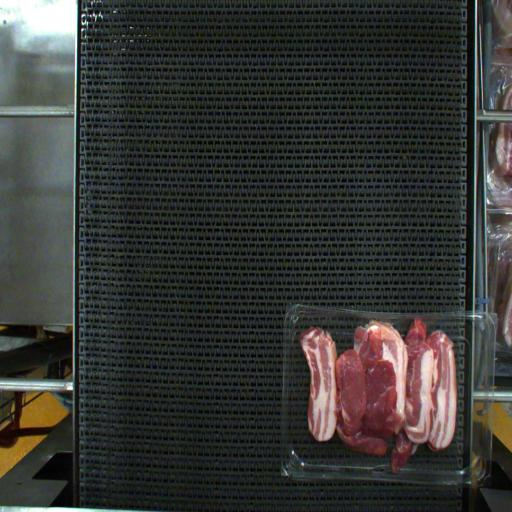packaging-error: (351, 304, 431, 349)
